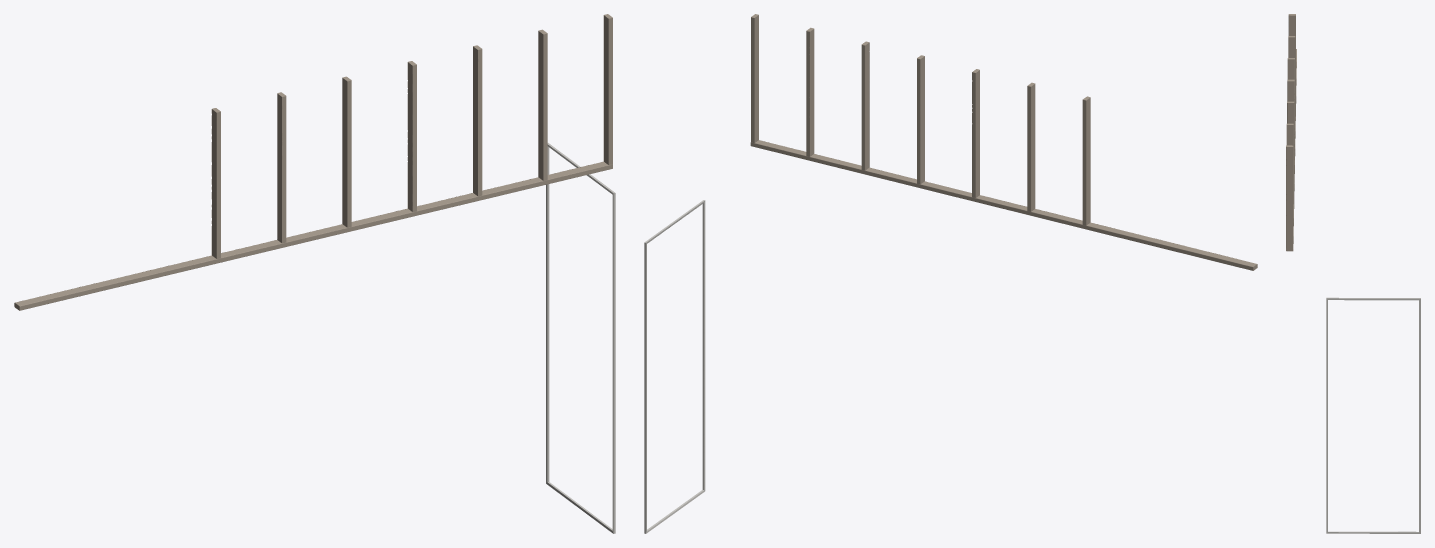
3 renders of one model, left to right at view 1: azimuth 30°, elevation 25°; view 2: azimuth 150°, elevation 25°; view 3: azimuth 270°, elevation 25°, orthographic. The views are drawn at different scales.
Size of the model in its own units: 4.79 by 4 by 1.3.
